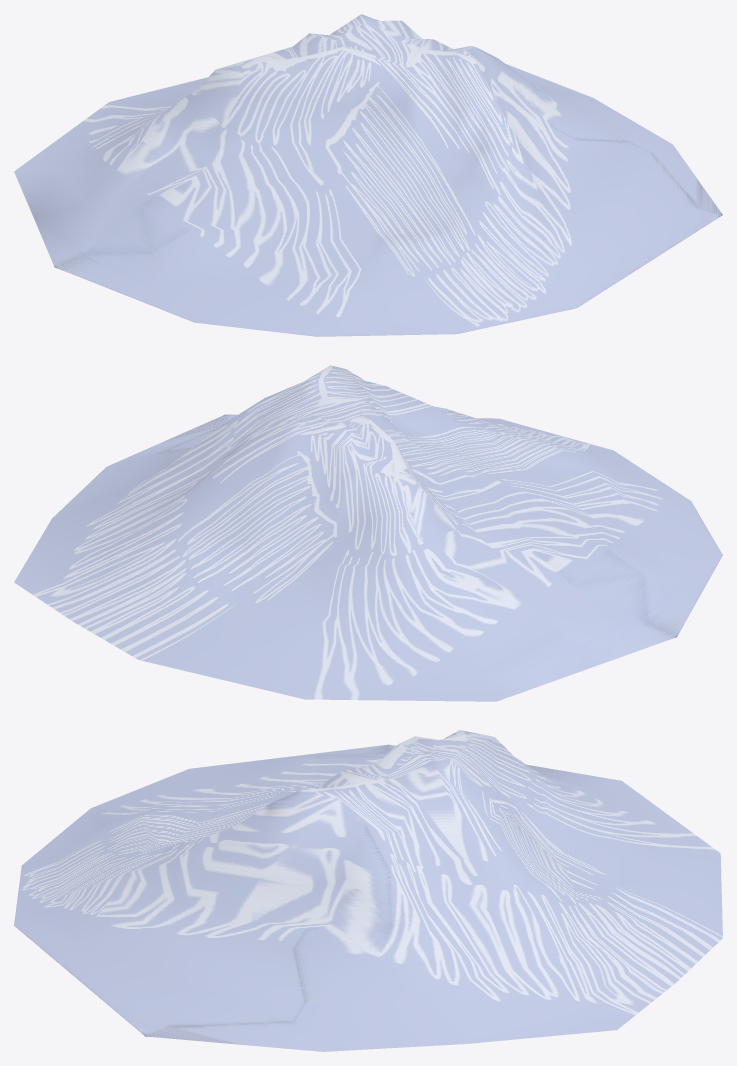
File: mountainR_2024.glb
3 renders of one model, top to bottom at view 1: azimuth 30°, elevation 25°; view 2: azimuth 150°, elevation 25°; view 3: azimuth 270°, elevation 25°, orthographic. The views are drawn at different scales.
Visible parts, largest first — view 1: mountain.R; view 2: mountain.R; view 3: mountain.R.
Part boxes in pixels (<box>): mountain.R: <box>14,14,722,336</box>; mountain.R: <box>14,365,722,701</box>; mountain.R: <box>14,730,722,1051</box>.
Bounding box in the file's own units: 116 × 28.59 × 113.
1 material, 1 textured.
